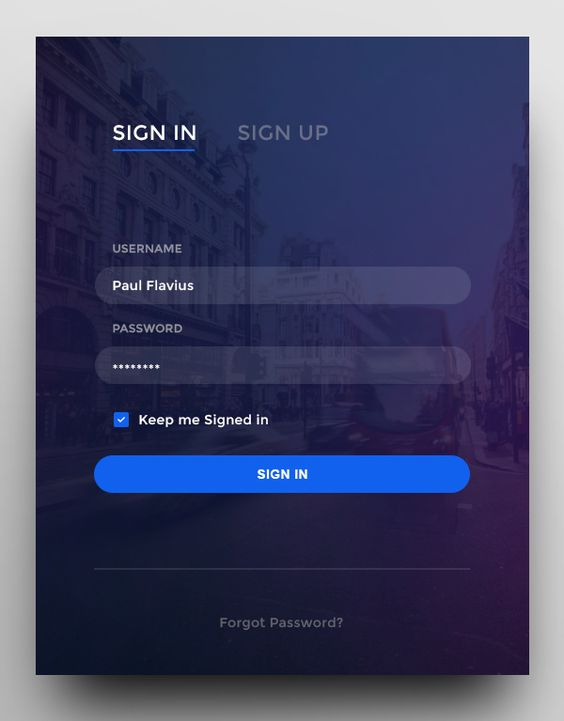_form_: (63, 100, 479, 516)
button: (93, 454, 471, 495)
checkbox: (111, 411, 131, 429)
checkbox_with_label: (108, 409, 268, 431)
field: (92, 264, 473, 306), (93, 344, 472, 386)
field_with_label: (89, 240, 475, 308), (88, 322, 476, 389)
